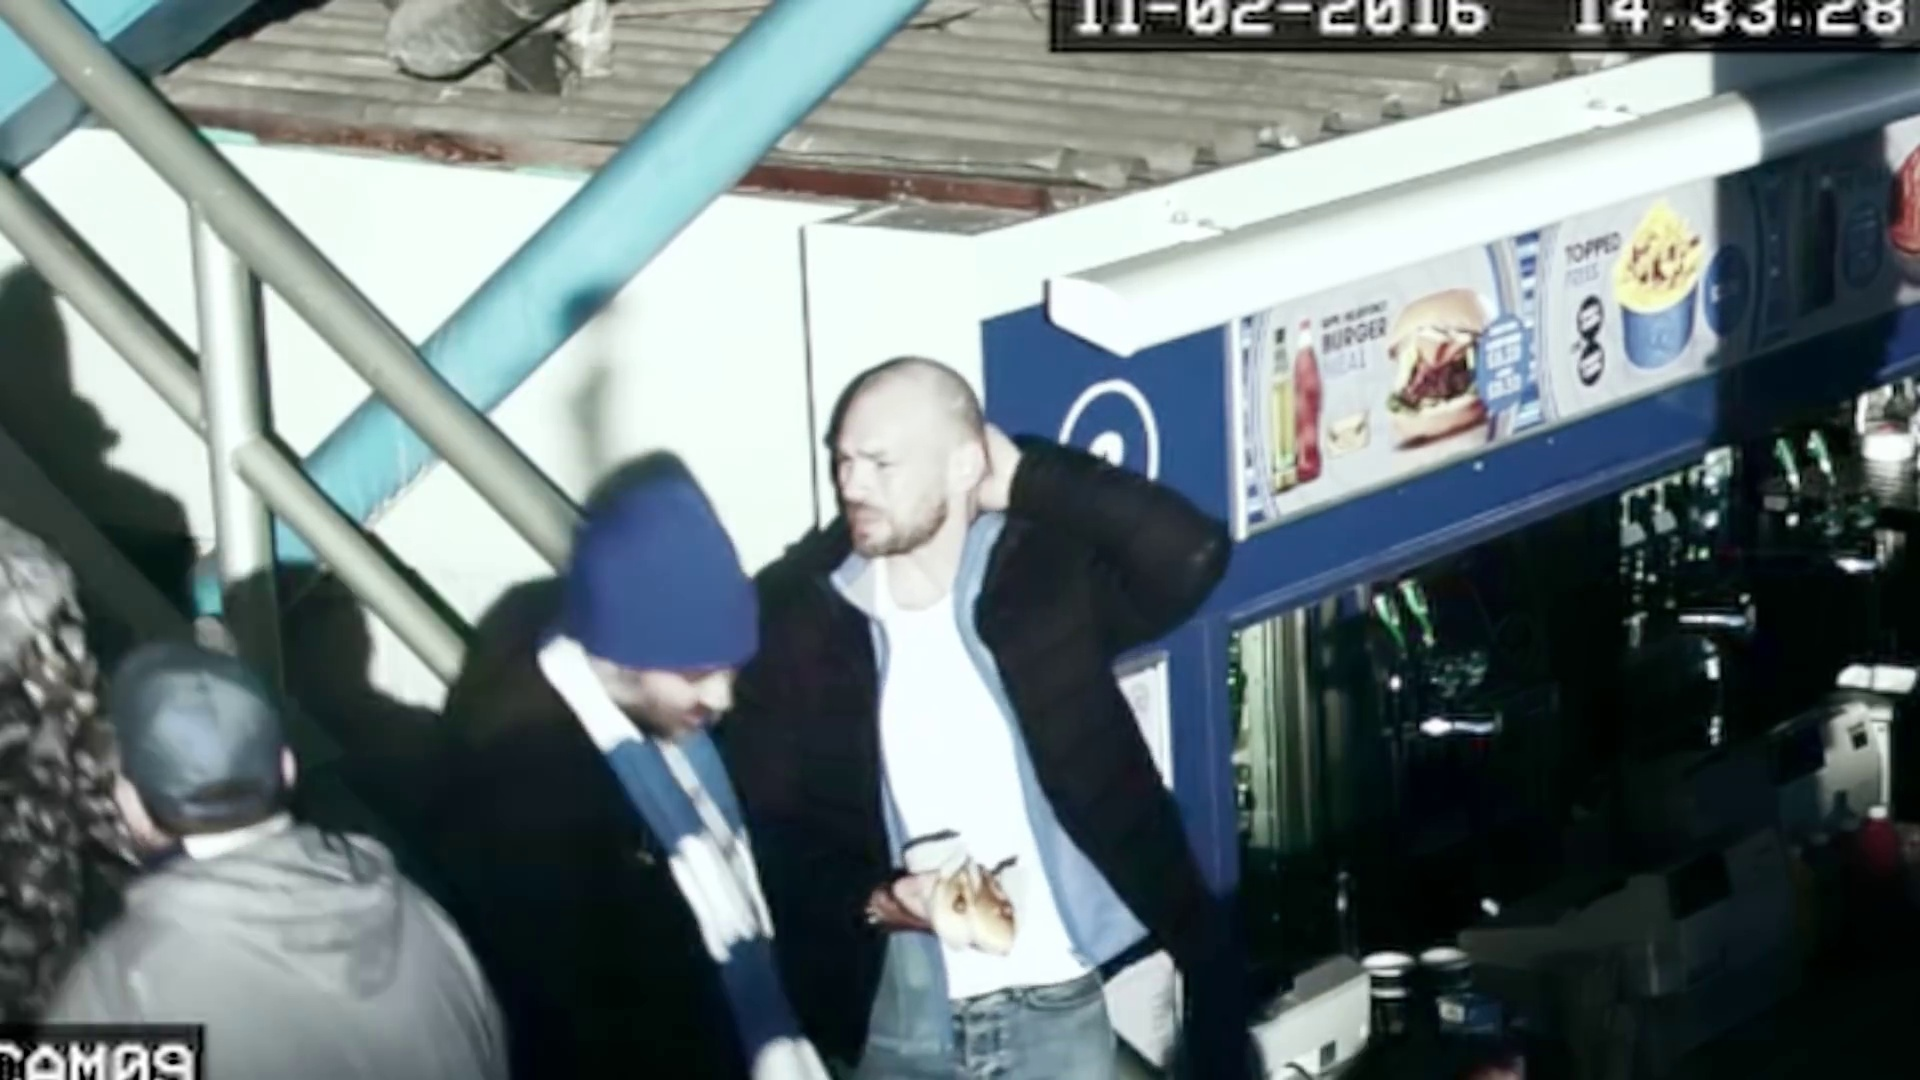face: (833, 424, 930, 559)
